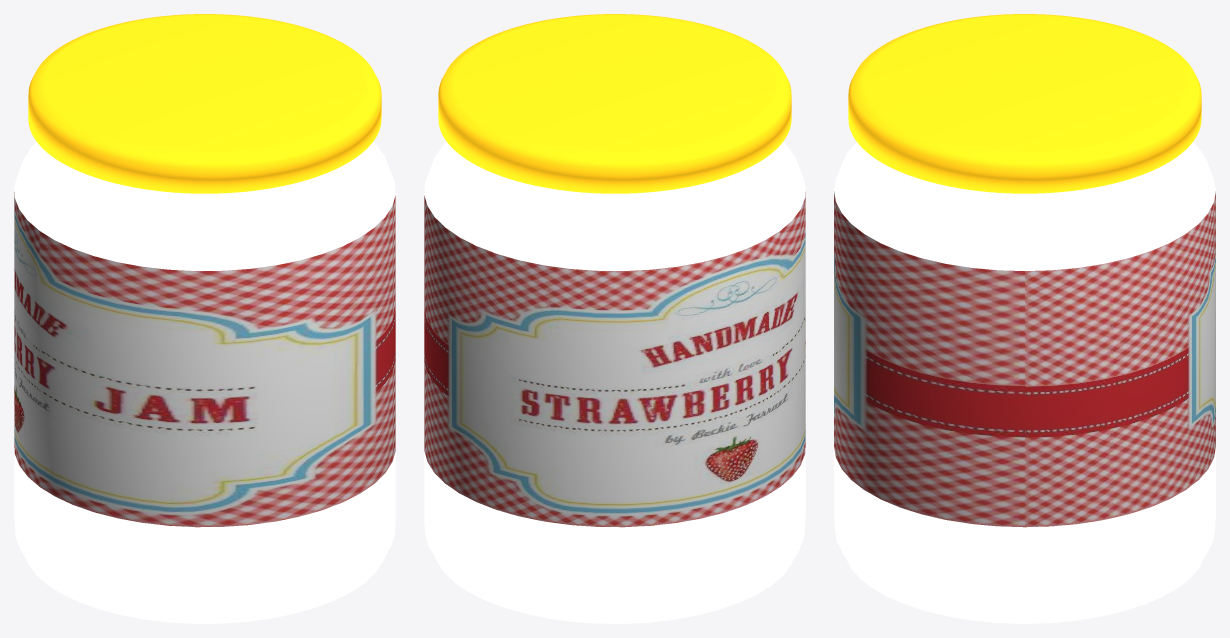
File: jam_jar.fbx
The picture shows the model from 3 angles, left to right: view 1: azimuth 30°, elevation 25°; view 2: azimuth 150°, elevation 25°; view 3: azimuth 270°, elevation 25°; orthographic projection.
Parts seen in each view (by area): view 1: outside, lid; view 2: outside, lid; view 3: outside, lid.
Boxes of the visible parts, bbox=[...] form: outside: bbox=[14, 142, 395, 623]; lid: bbox=[28, 14, 381, 193]; outside: bbox=[424, 142, 805, 623]; lid: bbox=[438, 14, 791, 193]; outside: bbox=[834, 142, 1215, 623]; lid: bbox=[848, 14, 1201, 193].
Size of the model in its own units: 0.3193 by 0.4299 by 0.3193.
4 materials, 1 textured.
